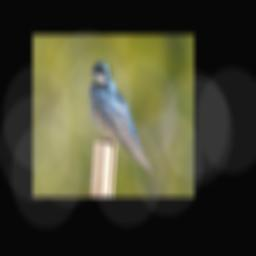Swallow: (87, 58, 154, 178)
